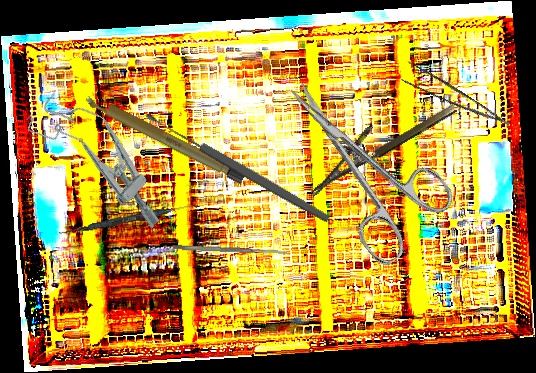Iris Scissors: (258, 51, 464, 270)
Needle Holder: (296, 84, 459, 197)
Scalpel Handle: (83, 91, 247, 185)
Spatula Surgical: (58, 199, 201, 239), (172, 244, 288, 256)
Speculum: (21, 79, 185, 239)
Surgical Spoon: (143, 109, 332, 225)
Tissue Forceps: (396, 57, 511, 143)
